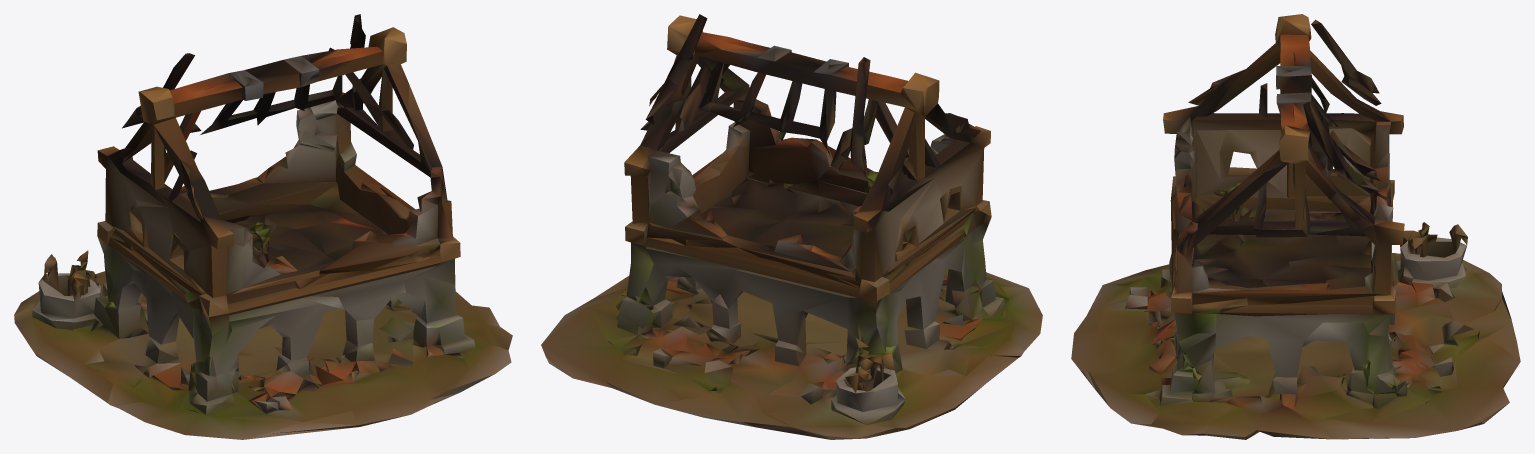
Rendered from village_ruin.lod2.glb.
The picture shows the model from 3 angles, left to right: view 1: azimuth 30°, elevation 25°; view 2: azimuth 150°, elevation 25°; view 3: azimuth 270°, elevation 25°; orthographic projection. The views are drawn at different scales.
Parts seen in each view (by area): view 1: Mesh_0; view 2: Mesh_0; view 3: Mesh_0.
Part boxes in pixels (x1=…): Mesh_0: x1=14, y1=14, x2=512, y2=439; Mesh_0: x1=541, y1=14, x2=1042, y2=439; Mesh_0: x1=1071, y1=14, x2=1520, y2=439.
Bounding box in the file's own units: 1.86 × 1.37 × 1.9.
